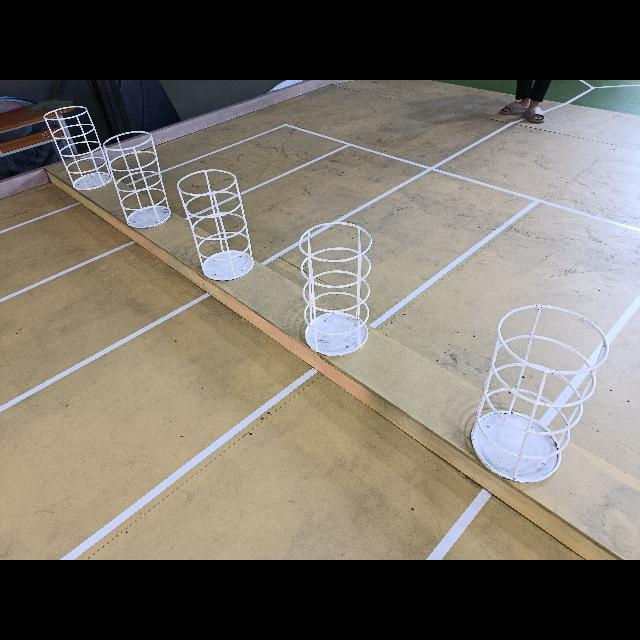S: (470, 303, 610, 484), (298, 223, 373, 354), (177, 169, 253, 281), (104, 132, 170, 229), (44, 106, 112, 190)
